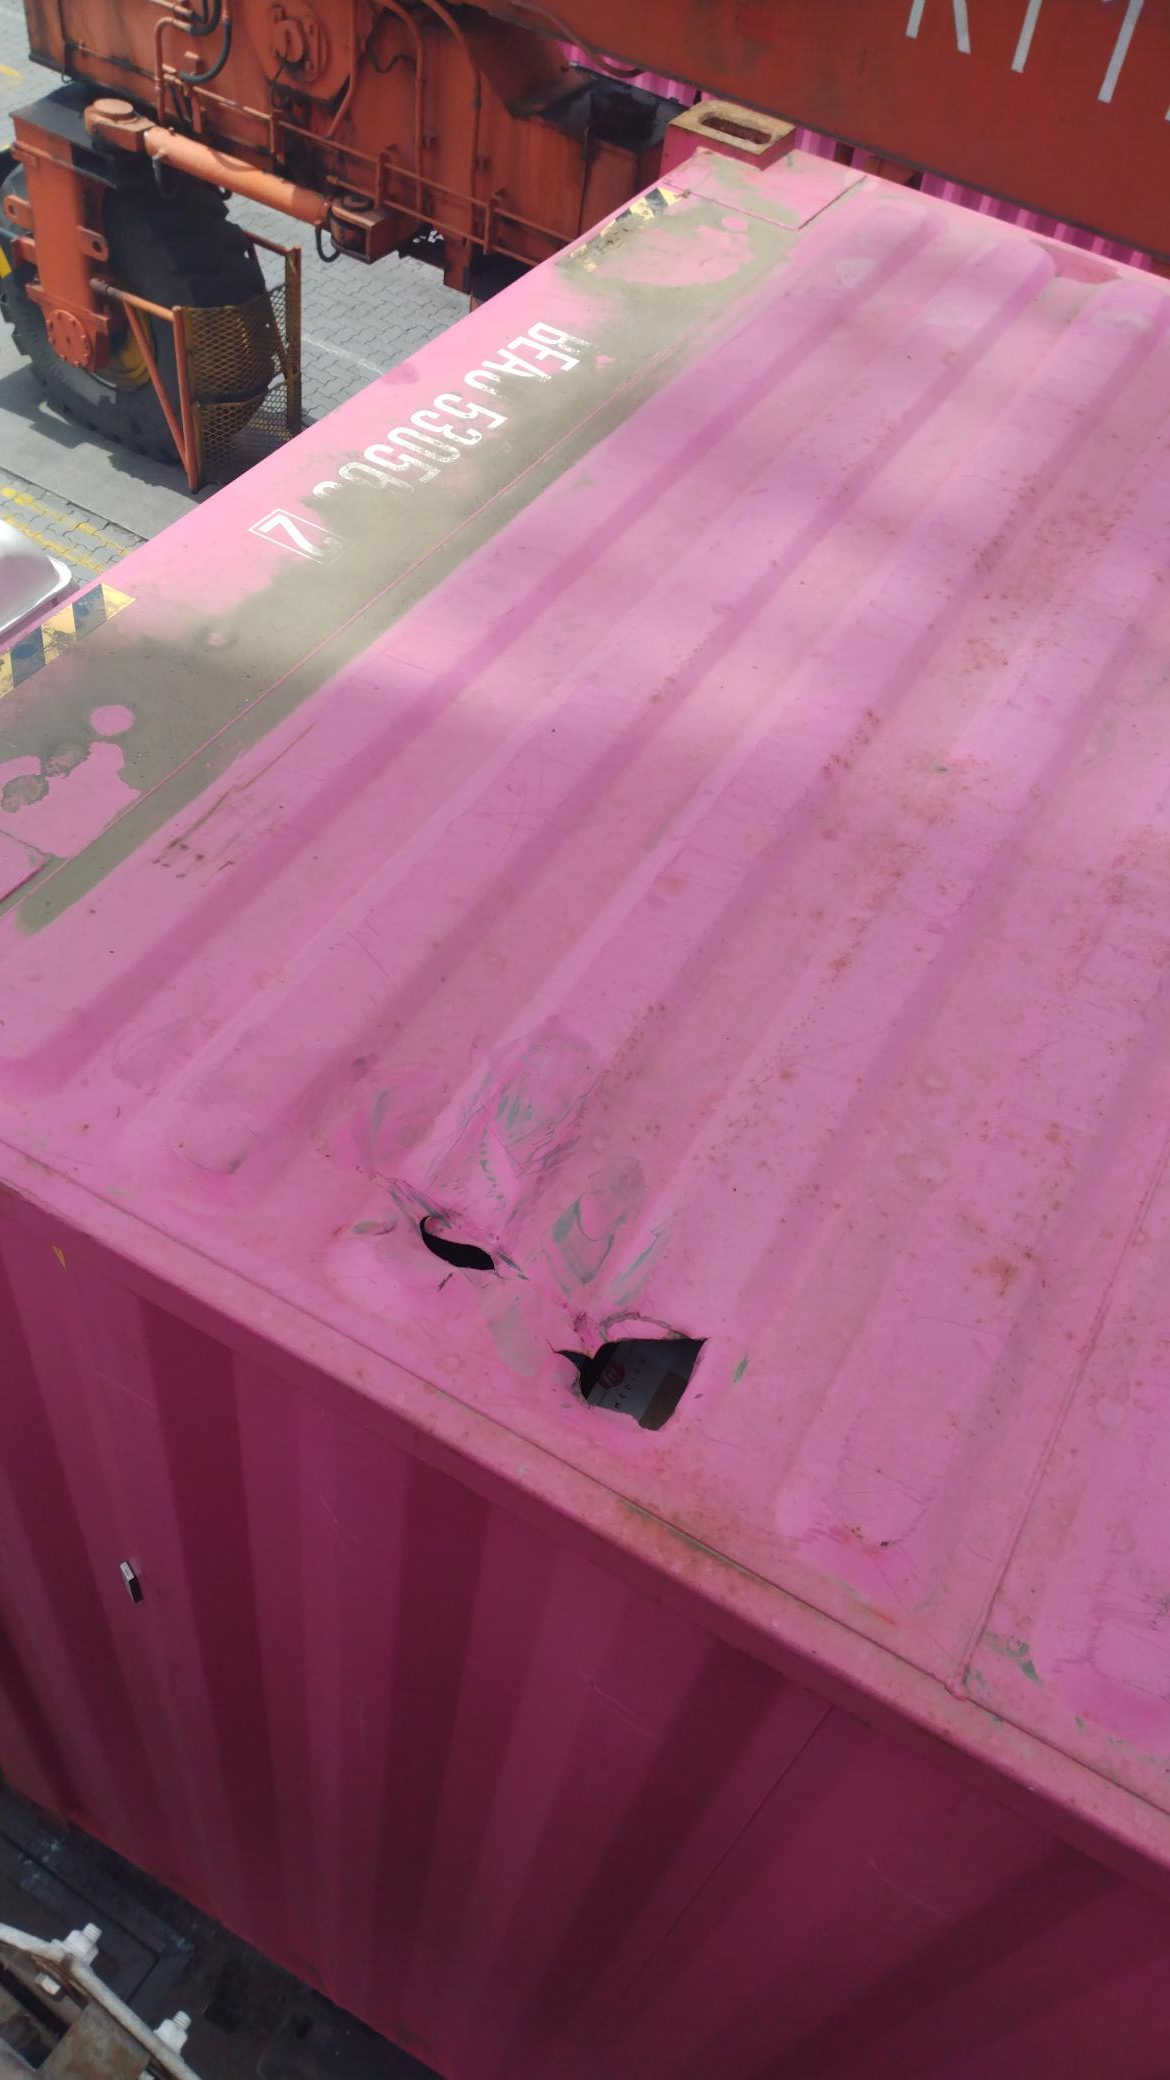cut: (396, 1193, 526, 1291)
hole: (514, 1324, 771, 1454)
